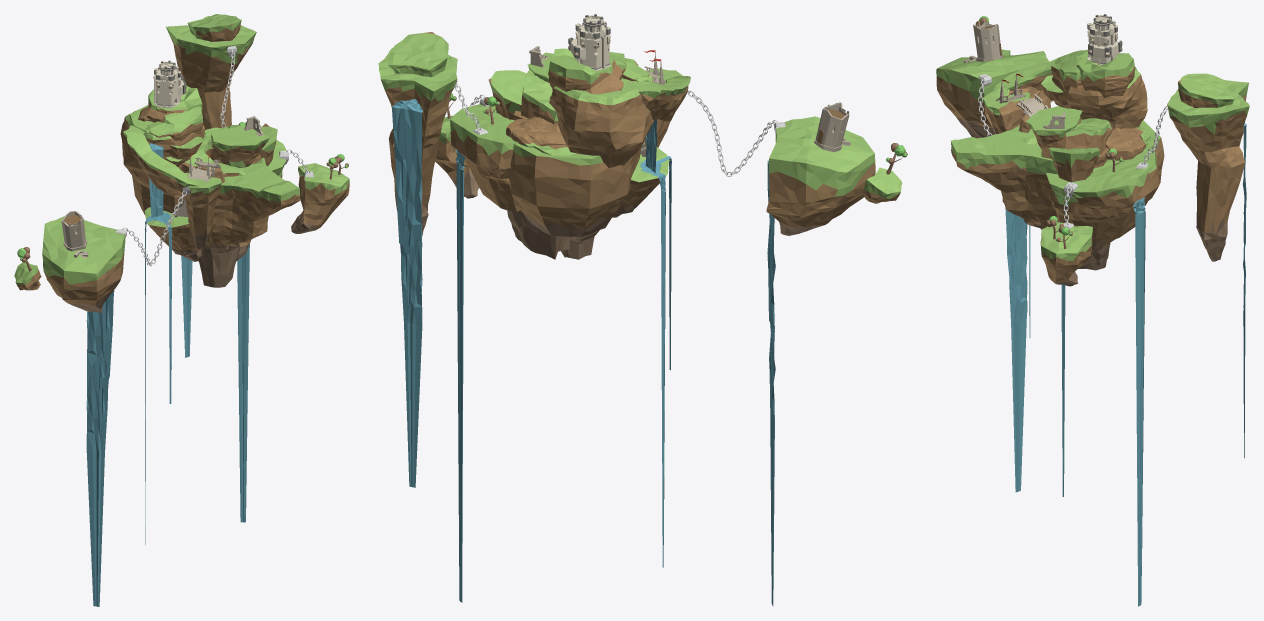
Rendered from Towerandterrain.fbx.
The picture shows the model from 3 angles, left to right: view 1: azimuth 30°, elevation 25°; view 2: azimuth 150°, elevation 25°; view 3: azimuth 270°, elevation 25°; orthographic projection. The views are drawn at different scales.
Visible parts, largest first — view 1: Terrain, waterfall, Bridge, Tower, Chains, TreesNew; view 2: Terrain, waterfall, Bridge, Tower, Chains; view 3: Terrain, waterfall, Bridge, Tower, Chains, TreesNew.
Boxes of the visible parts, x1,y1,x2,y2 form: Terrain: [14, 14, 349, 312]; waterfall: [86, 75, 249, 606]; Bridge: [61, 116, 264, 258]; Tower: [153, 60, 186, 108]; Chains: [115, 46, 313, 266]; TreesNew: [17, 122, 348, 271]; Terrain: [378, 32, 902, 259]; waterfall: [392, 99, 775, 606]; Bridge: [529, 46, 850, 152]; Tower: [568, 14, 610, 70]; Chains: [455, 79, 785, 176]; Terrain: [936, 49, 1249, 286]; waterfall: [1005, 122, 1246, 606]; Bridge: [964, 22, 1065, 128]; Tower: [1087, 14, 1122, 65]; Chains: [978, 74, 1167, 228]; TreesNew: [975, 16, 1123, 248].
Size of the model in its own units: 3922 by 5065 by 2673.
